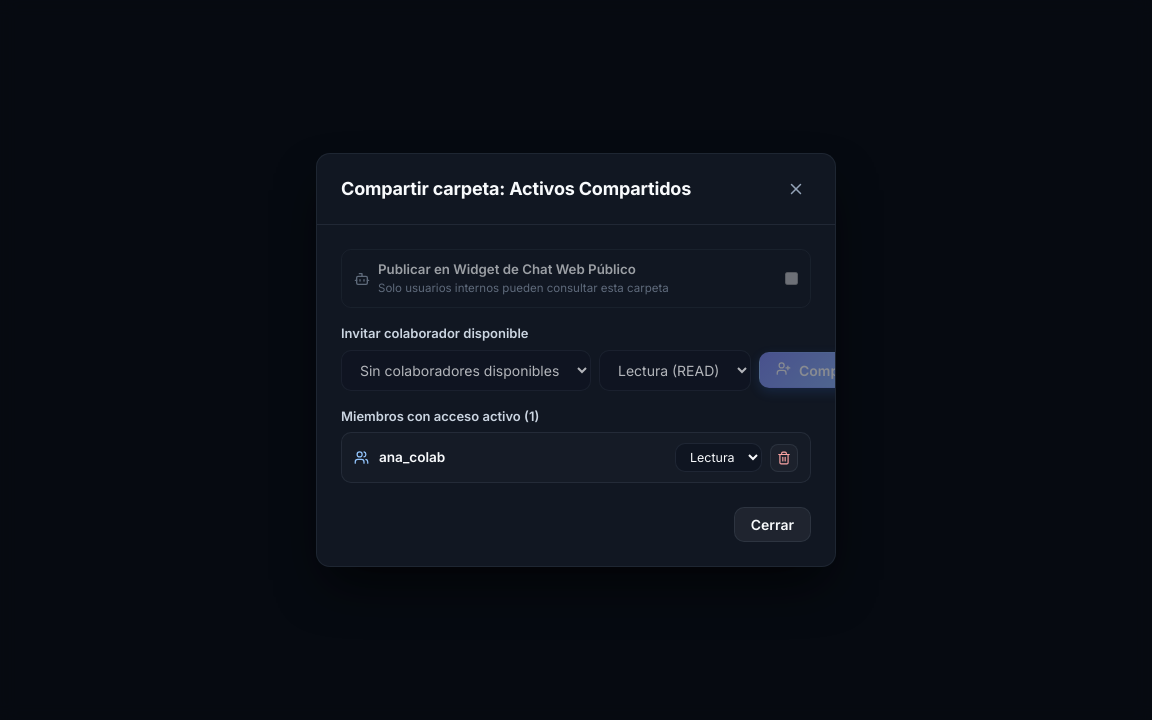
ShareFolderModal Component (13.4) › toggles member permission inline (READ <-> EDIT) and revokes member access
The image size is (1152, 720).
Step 1. Select "Edición" in the dropdown named "Cambiar permiso de ana_colab" → {"x": 718, "y": 458}, box x1=675 y1=443 x2=762 y2=472
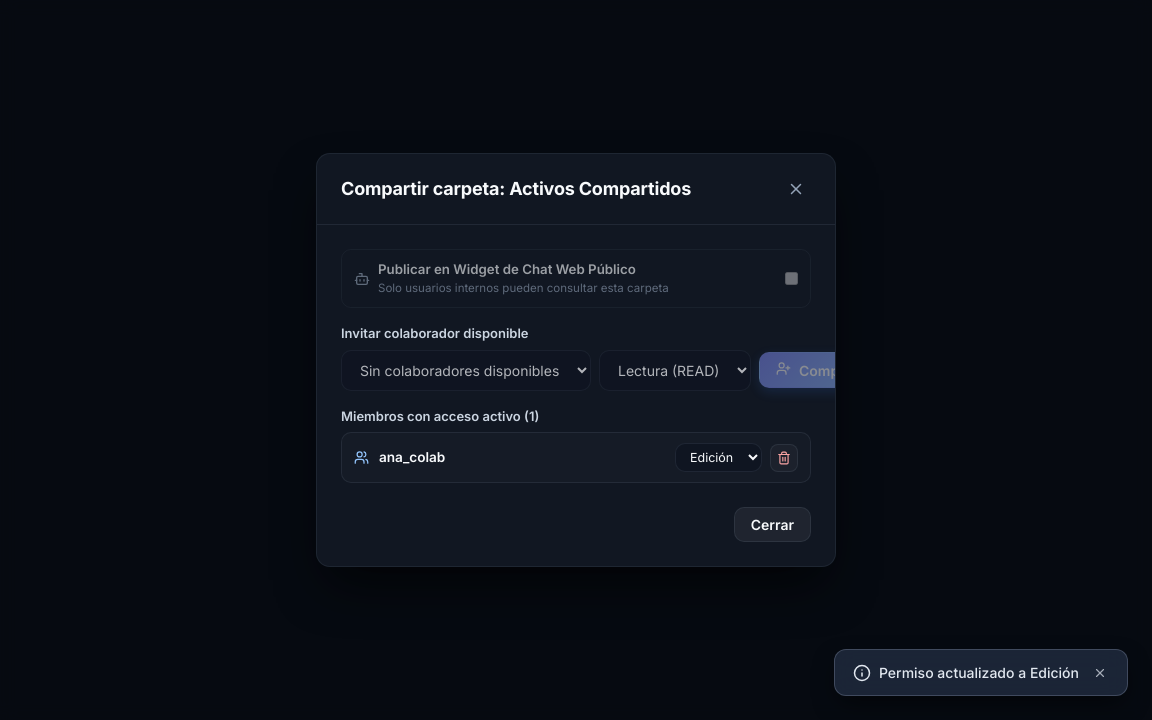
Step 2. Click the button named "Revocar acceso a ana_colab" → {"x": 784, "y": 458}, box x1=770 y1=444 x2=798 y2=472
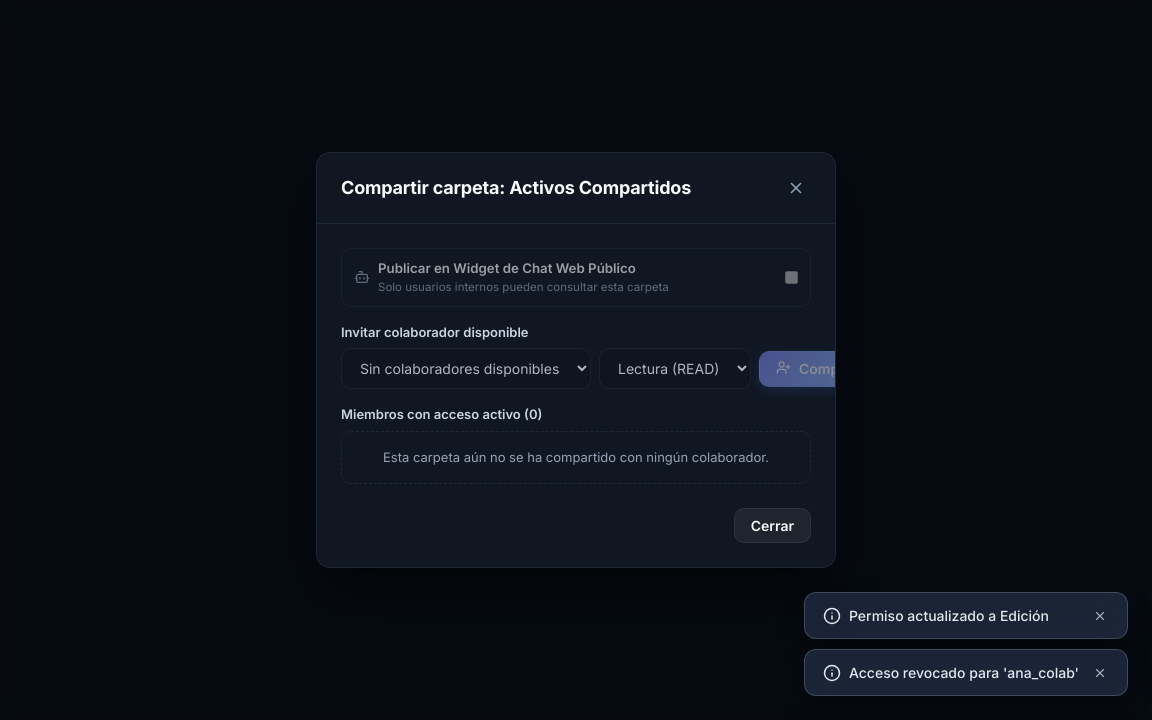
Now the element with test id "share-member-ana_colab" is gone
